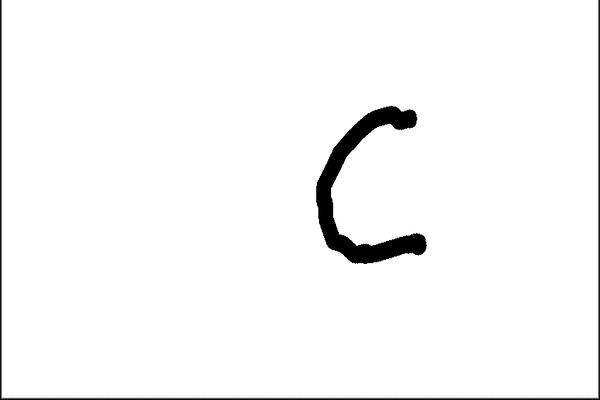C: (310, 102, 435, 268)
